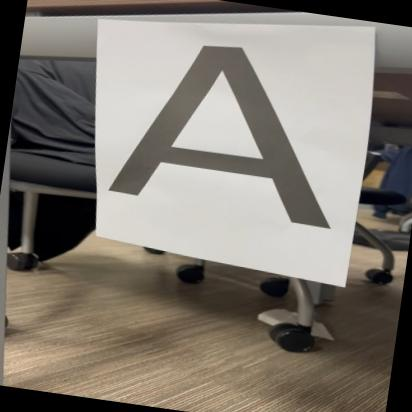seat: (92, 28, 367, 238)
